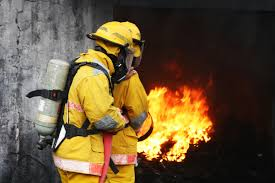fire: (137, 78, 220, 159)
